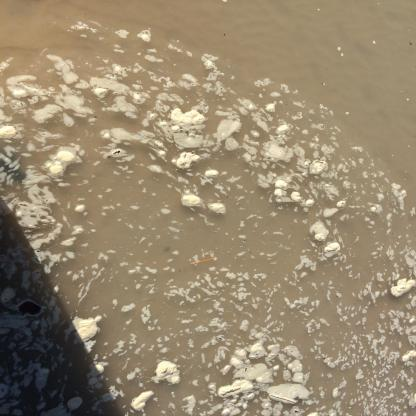trash: (189, 256, 218, 266)
